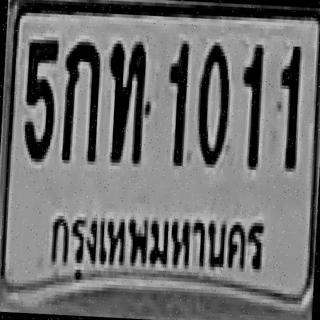A01: (60, 36, 101, 160)
A23: (104, 37, 147, 160)
N00: (194, 40, 230, 163)
N01: (275, 41, 302, 167), (163, 38, 189, 161), (238, 39, 262, 165)
N05: (22, 36, 57, 159)
P04: (45, 198, 271, 288)
